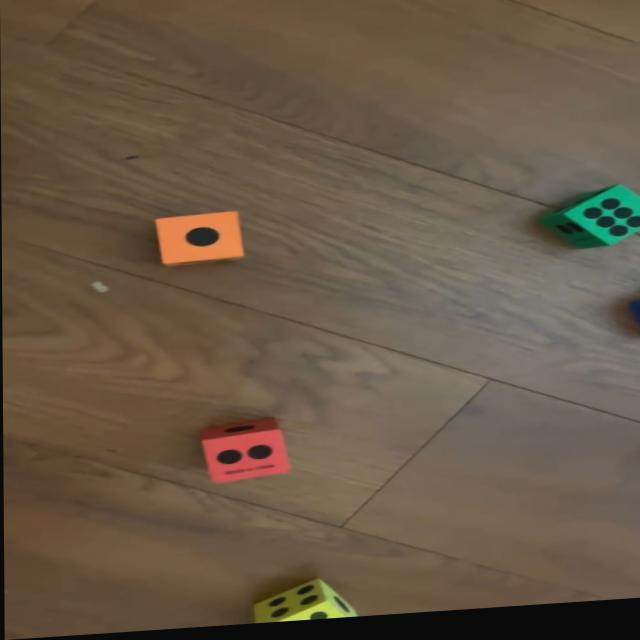cube: (544, 189, 640, 257), (200, 421, 289, 486)
